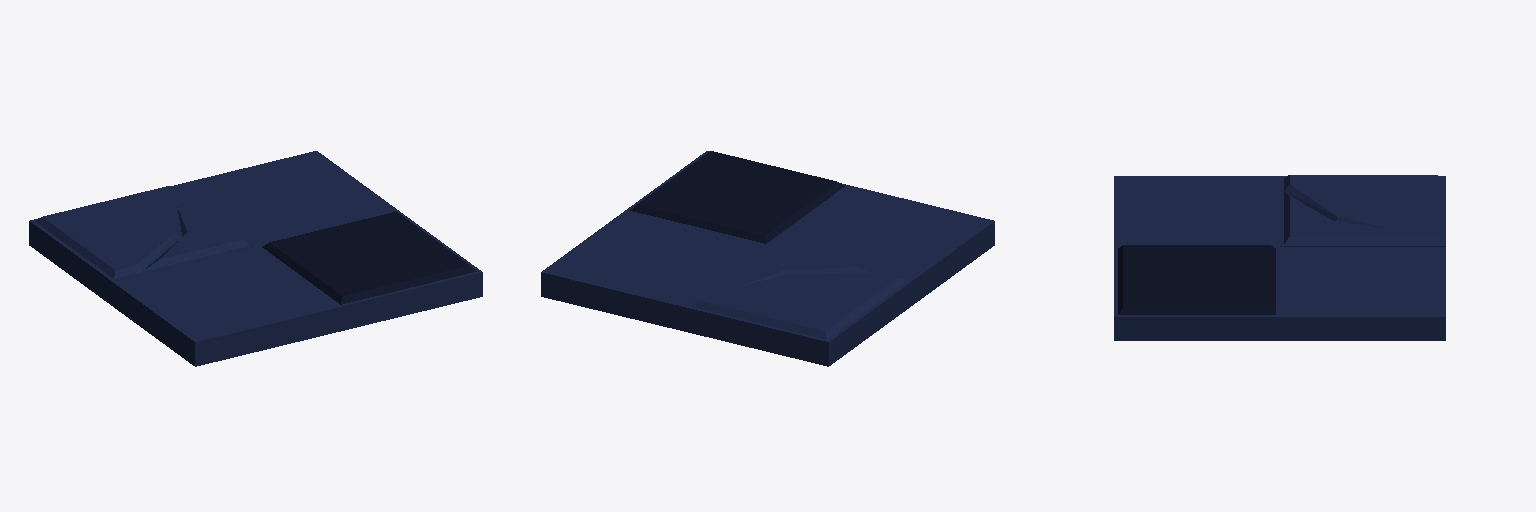
File: tile3.obj
3 views of the same model, side by side, from view 1: azimuth 30°, elevation 25°; view 2: azimuth 150°, elevation 25°; view 3: azimuth 270°, elevation 25° (orthographic).
Visible parts, largest first — view 1: floor.003_dark_grey_0; view 2: floor.003_dark_grey_0; view 3: floor.003_dark_grey_0.
Part boxes in pixels (left/top/right/bottom): floor.003_dark_grey_0: left=29, top=151, right=482, bottom=366; floor.003_dark_grey_0: left=541, top=151, right=994, bottom=366; floor.003_dark_grey_0: left=1114, top=175, right=1445, bottom=340.
Bounding box in the file's own units: 1 × 0.1 × 1.